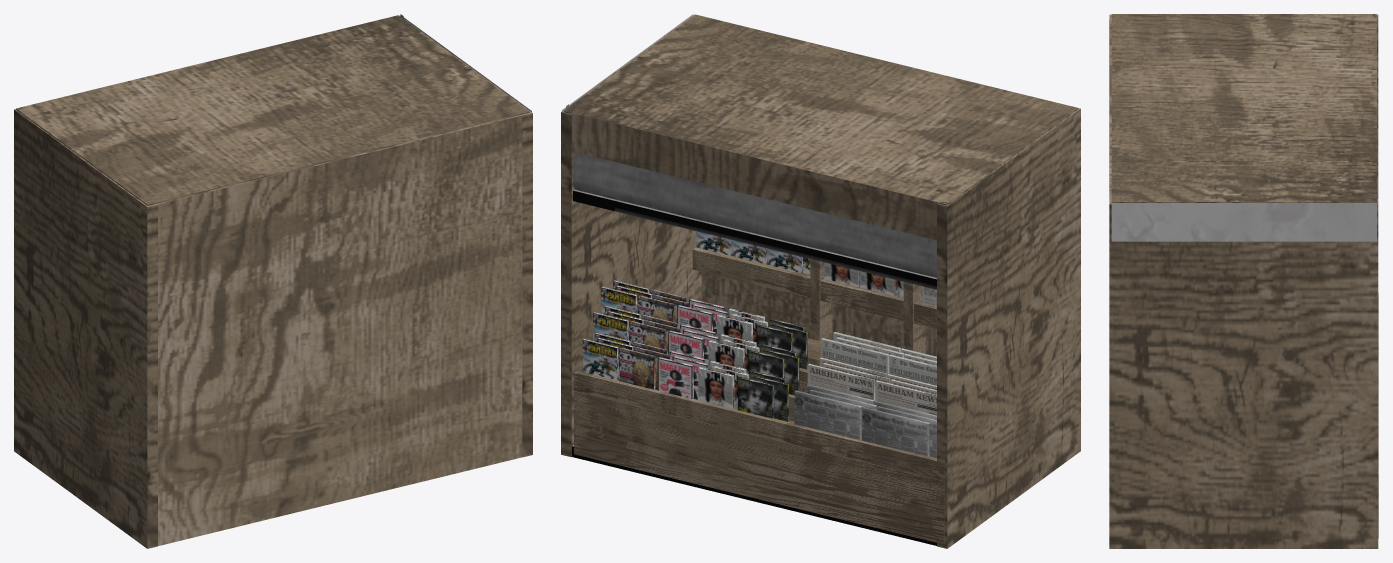
File: shop6.fbx
3 views of the same model, side by side, from view 1: azimuth 30°, elevation 25°; view 2: azimuth 150°, elevation 25°; view 3: azimuth 270°, elevation 25° (orthographic).
Parts seen in each view (by area): view 1: pCube191; view 2: pCube191; view 3: pCube191.
Part boxes in pixels (bbox=[...]): pCube191: bbox=[14, 14, 532, 548]; pCube191: bbox=[561, 14, 1080, 548]; pCube191: bbox=[1109, 14, 1378, 548].
Bounding box in the file's own units: 4.82 × 4.14 × 2.89.
Materials: 10 (10 with a texture image).
